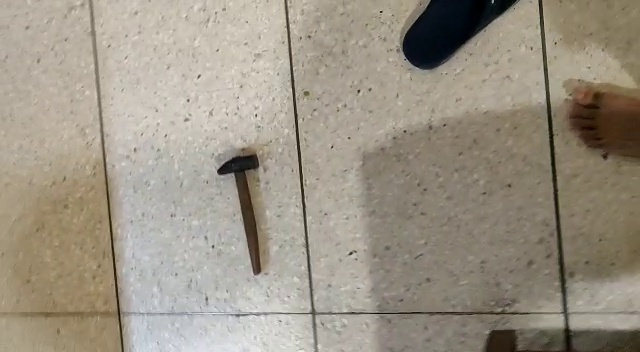hammer: (217, 153, 266, 276)
